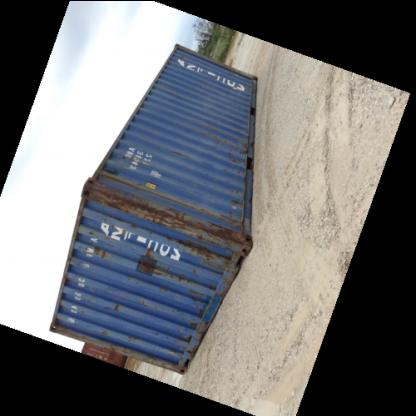Damage: (128, 196, 202, 230), (135, 253, 187, 283), (178, 305, 212, 348), (90, 182, 126, 216), (76, 230, 112, 264), (199, 247, 251, 270), (212, 212, 246, 244), (222, 139, 255, 168), (169, 231, 215, 251), (166, 142, 190, 164), (120, 325, 144, 345), (95, 168, 122, 180), (224, 190, 242, 208), (92, 327, 112, 340), (106, 300, 120, 315), (116, 151, 138, 160)
